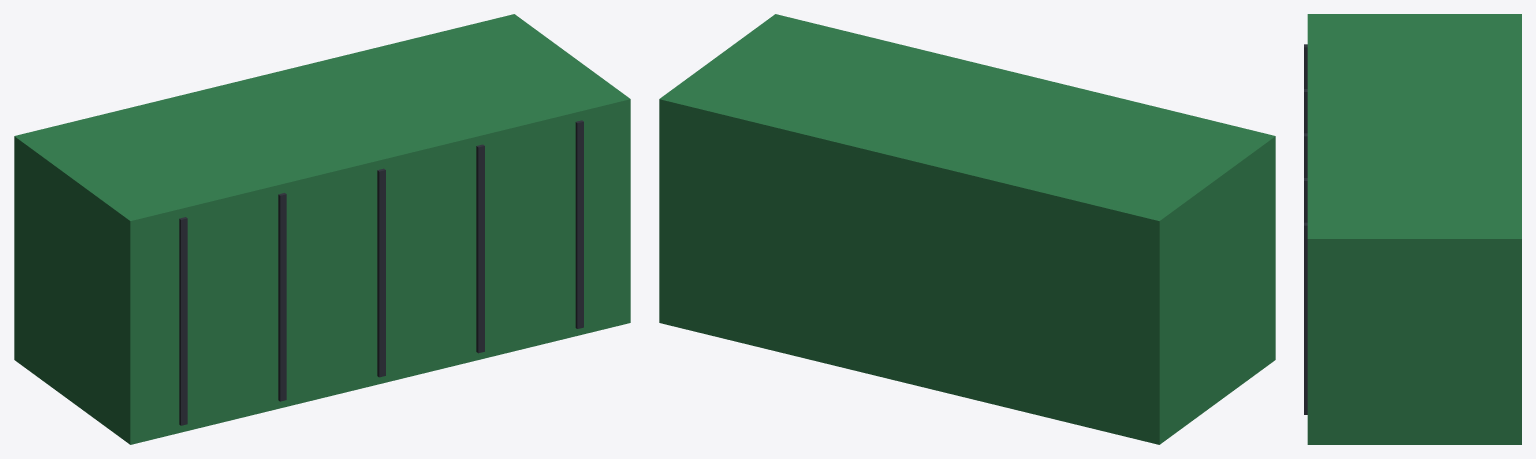
File: container_closed_green.glb
The picture shows the model from 3 angles, left to right: view 1: azimuth 30°, elevation 25°; view 2: azimuth 150°, elevation 25°; view 3: azimuth 270°, elevation 25°; orthographic projection. The views are drawn at different scales.
Parts seen in each view (by area): view 1: model; view 2: model; view 3: model.
Boxes of the visible parts, x1,y1,x2,y2 form: model: (14, 14, 630, 444); model: (659, 14, 1275, 444); model: (1304, 14, 1521, 444).
Bounding box in the file's own units: 6.06 × 2.59 × 2.48.
